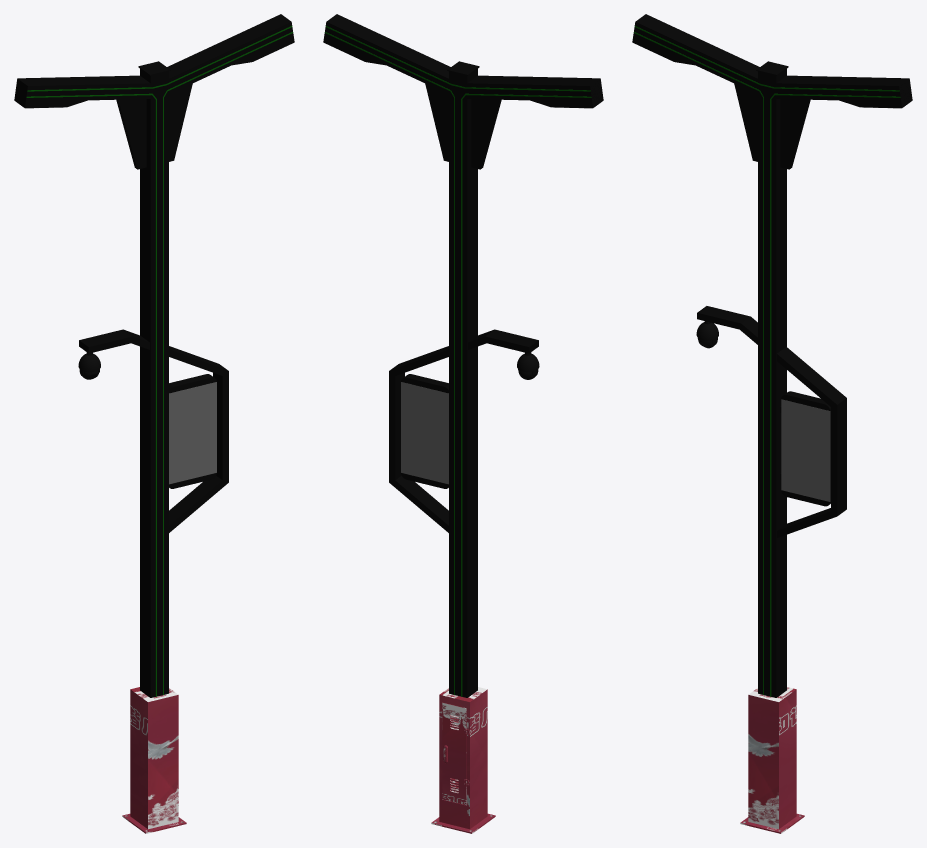
Rendered from end-2.fbx.
The picture shows the model from 3 angles, left to right: view 1: azimuth 30°, elevation 25°; view 2: azimuth 150°, elevation 25°; view 3: azimuth 330°, elevation 25°; orthographic projection.
Visible parts, largest first — view 1: 杆体 (×6), 机箱2, 屏幕, 颜色带 (×3), 外壳; view 2: 杆体 (×6), 机箱2 (×2), 屏幕, 颜色带 (×3), 外壳; view 3: 杆体 (×6), 机箱2, 屏幕, 颜色带 (×3), 外壳.
Part boxes in pixels (left/top/right/bottom): 杆体 (×6): left=15, top=14, right=293, bottom=697; 机箱2: left=130, top=687, right=178, bottom=829; 屏幕: left=169, top=382, right=216, bottom=484; 颜色带 (×3): left=26, top=26, right=293, bottom=696; 外壳: left=169, top=374, right=216, bottom=488; 杆体 (×6): left=324, top=14, right=602, bottom=697; 机箱2 (×2): left=439, top=687, right=487, bottom=829; 屏幕: left=401, top=382, right=448, bottom=484; 颜色带 (×3): left=324, top=26, right=591, bottom=696; 外壳: left=401, top=374, right=448, bottom=488; 杆体 (×6): left=633, top=14, right=911, bottom=697; 机箱2: left=748, top=687, right=796, bottom=829; 屏幕: left=781, top=399, right=830, bottom=501; 颜色带 (×3): left=633, top=26, right=900, bottom=696; 外壳: left=781, top=391, right=830, bottom=506.
Size of the model in its own units: 2199 by 6000 by 332.
Materials: 10 (1 with a texture image).
